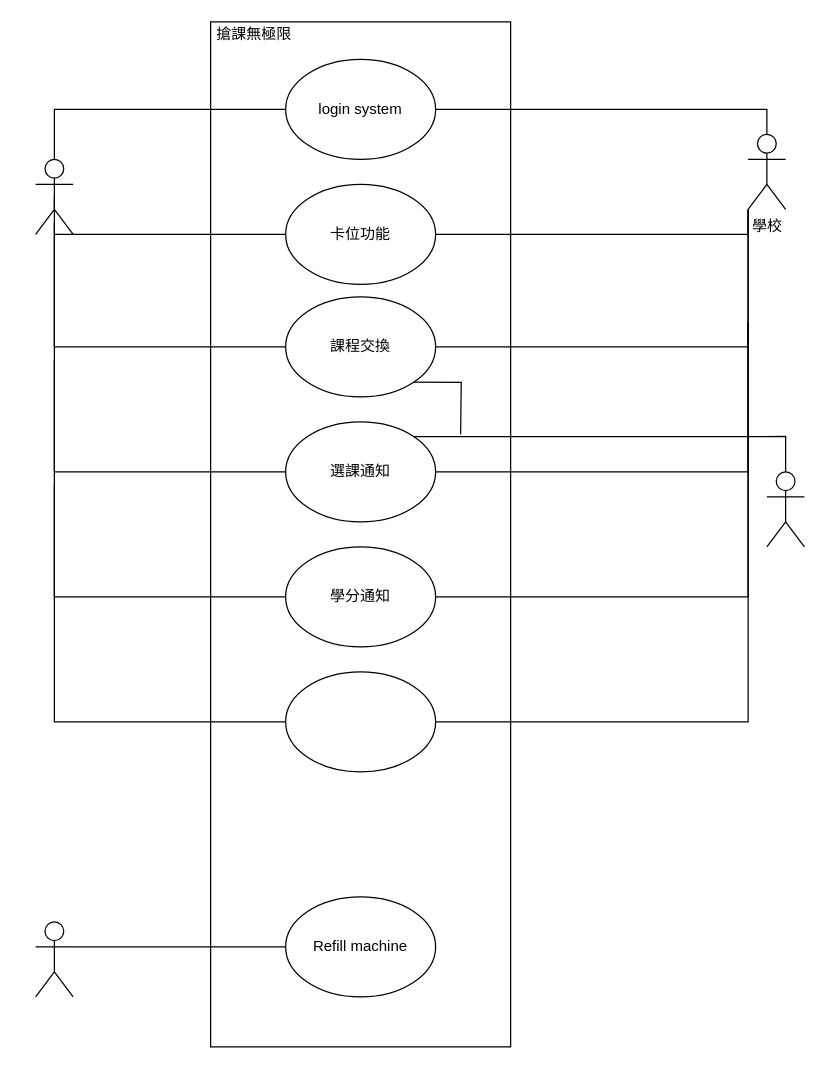
Some shapes in this 826 by 1069 pixel diagram are drawn without their labels. The shapes that lost their labels are listed below. From the top down, each one's centre as x and y in pixels, then its label:
At point 53,196: "student".
At point 785,509: "Gmail".
At point 360,721: "修課評價".
At point 53,959: "developer".
